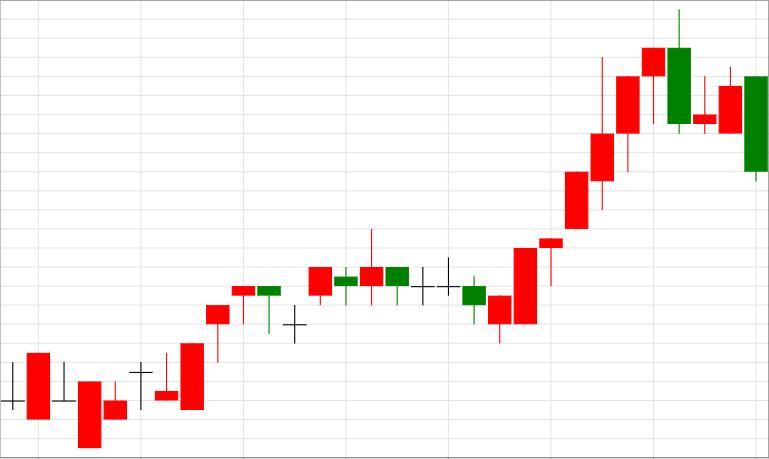bearish_engulfing_fall: (488, 7, 690, 344)
hanging_man_fall: (488, 47, 665, 342)
